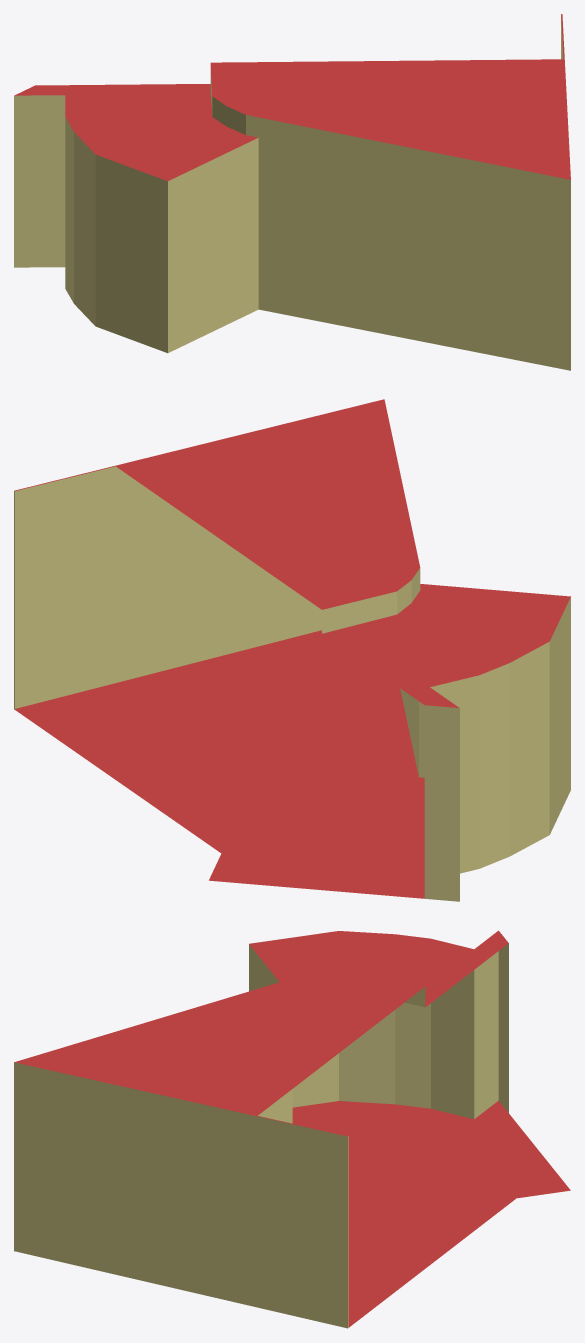
3 views of the same model, one above another, from view 1: azimuth 30°, elevation 25°; view 2: azimuth 150°, elevation 25°; view 3: azimuth 270°, elevation 25° (orthographic). The views are drawn at different scales.
Size of the model in its own units: 17.32 by 17.88 by 6.8.
